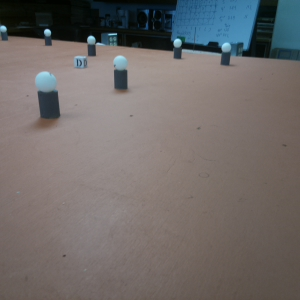obstacle: (34, 71, 61, 118), (112, 55, 128, 88), (220, 44, 232, 67), (86, 35, 97, 56), (173, 38, 182, 60), (42, 28, 52, 45), (1, 24, 8, 40)
